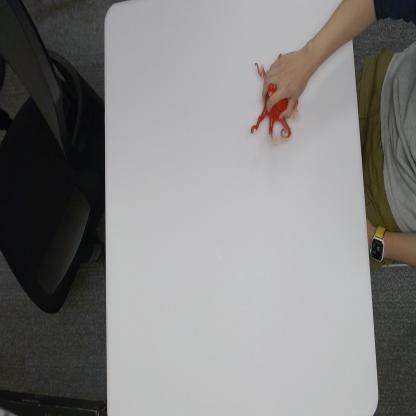Hand: (308, 0, 375, 80), (261, 45, 308, 121)
Octopus: (249, 54, 300, 146)
